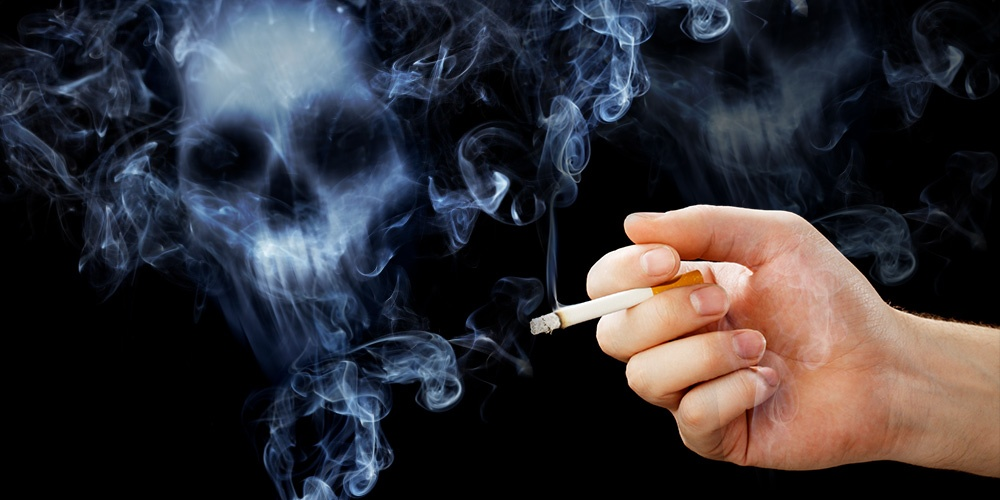sigaretta: (513, 269, 708, 335)
